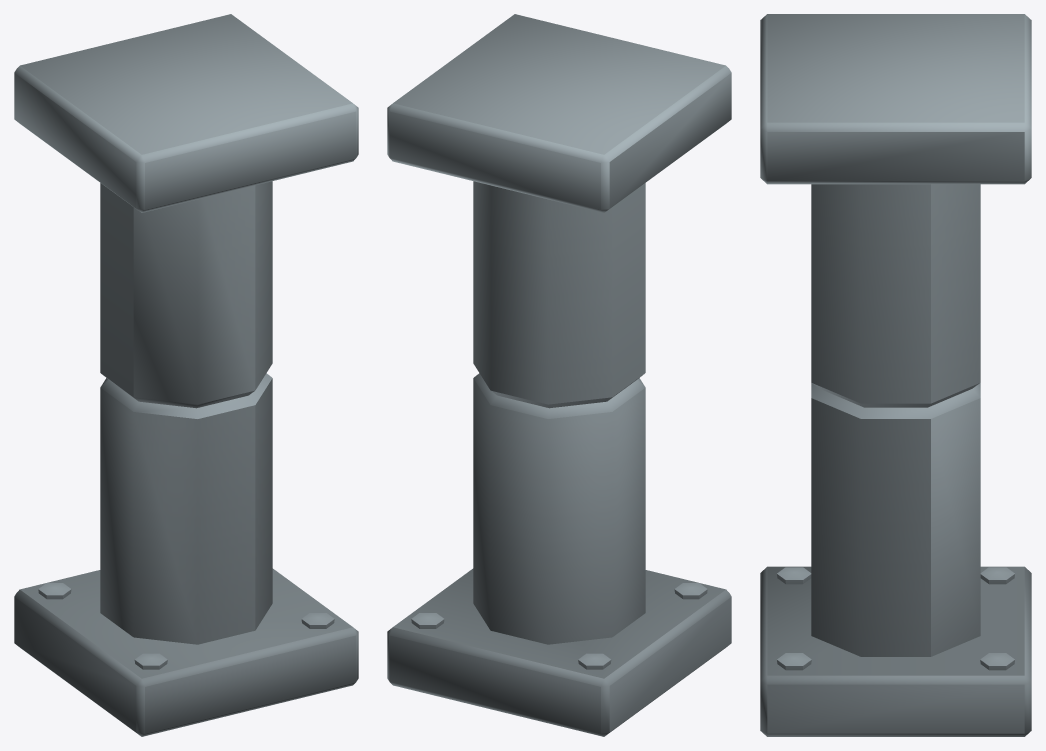
File: pillar_2x2x4.glb
3 renders of one model, left to right at view 1: azimuth 30°, elevation 25°; view 2: azimuth 150°, elevation 25°; view 3: azimuth 270°, elevation 25°, orthographic. The views are drawn at different scales.
Parts seen in each view (by area): view 1: pillar_2x2x4; view 2: pillar_2x2x4; view 3: pillar_2x2x4.
Boxes of the visible parts, x1,y1,x2,y2 form: pillar_2x2x4: [14, 14, 358, 736]; pillar_2x2x4: [387, 14, 731, 736]; pillar_2x2x4: [760, 14, 1031, 736].
Size of the model in its own units: 1.6 by 4 by 1.6.
Materials: 1 (1 with a texture image).
